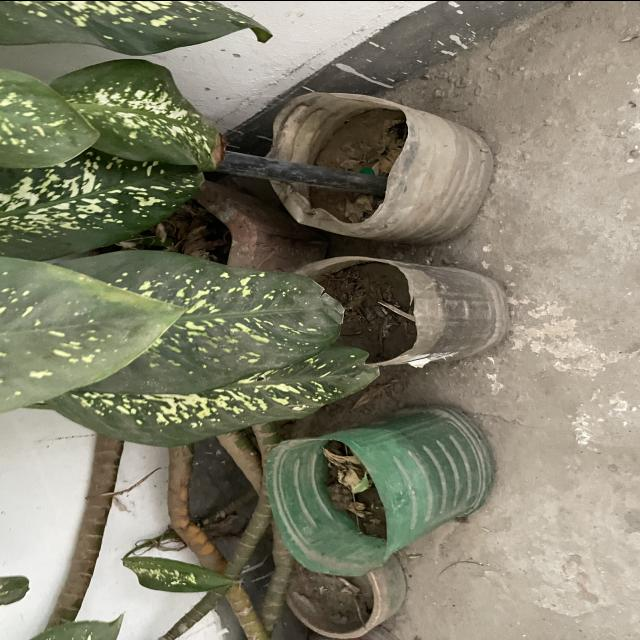Breeding Place: (262, 420, 492, 566), (268, 92, 496, 236), (287, 250, 509, 358), (285, 536, 411, 638)
